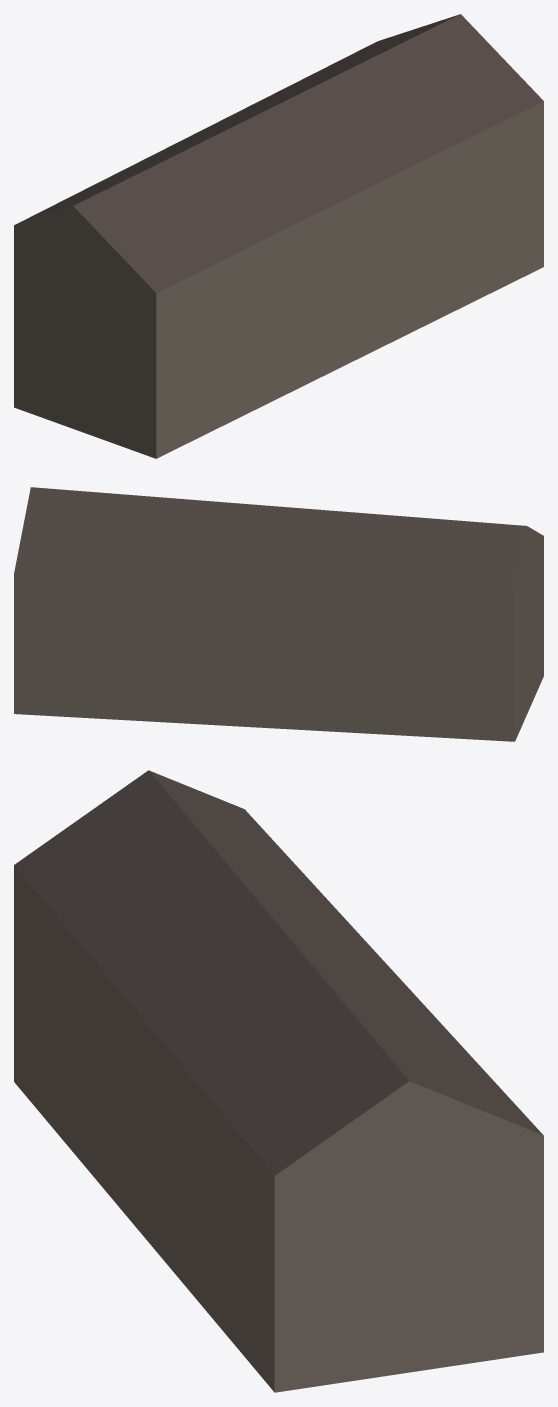
3 views of the same model, one above another, from view 1: azimuth 30°, elevation 25°; view 2: azimuth 150°, elevation 25°; view 3: azimuth 270°, elevation 25° (orthographic). The views are drawn at different scales.
Visible parts, largest first — view 1: HP-w1512800274; view 2: HP-w1512800274; view 3: HP-w1512800274.
Part boxes in pixels (x1=…): HP-w1512800274: x1=14, y1=14, x2=543, y2=458; HP-w1512800274: x1=14, y1=487, x2=543, y2=741; HP-w1512800274: x1=14, y1=770, x2=543, y2=1392.
Bounding box in the file's own units: 30.76 × 12.1 × 19.95.
